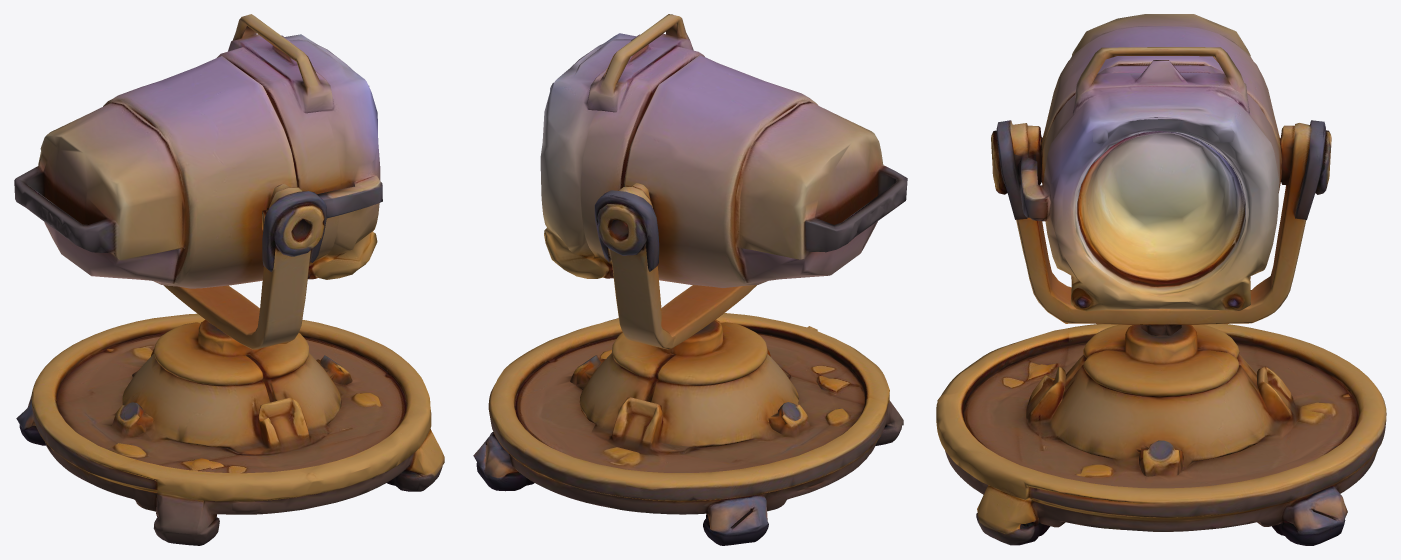
Rendered from spotlight.glb.
The picture shows the model from 3 angles, left to right: view 1: azimuth 30°, elevation 25°; view 2: azimuth 150°, elevation 25°; view 3: azimuth 270°, elevation 25°; orthographic projection. The views are drawn at different scales.
Visible parts, largest first — view 1: tripo_node_d4277b3c-a069-4406-9103-adadc46f3c4b; view 2: tripo_node_d4277b3c-a069-4406-9103-adadc46f3c4b; view 3: tripo_node_d4277b3c-a069-4406-9103-adadc46f3c4b.
Part boxes in pixels (x1,y1,x2,y2): tripo_node_d4277b3c-a069-4406-9103-adadc46f3c4b: [14, 14, 444, 545]; tripo_node_d4277b3c-a069-4406-9103-adadc46f3c4b: [473, 14, 907, 545]; tripo_node_d4277b3c-a069-4406-9103-adadc46f3c4b: [936, 14, 1386, 545].
Bounding box in the file's own units: 0.885 × 0.9772 × 0.886.
Materials: 1 (1 with a texture image).
